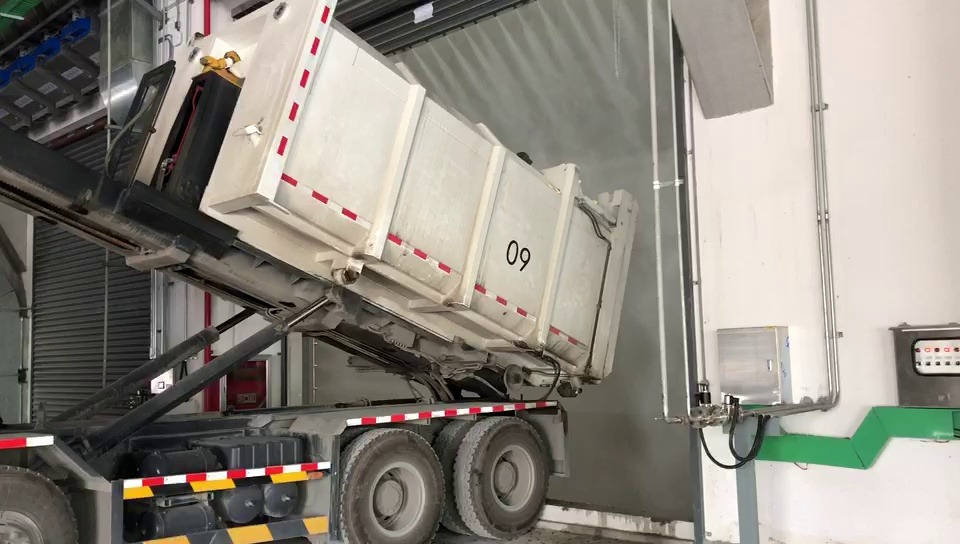truck: (0, 0, 646, 544)
